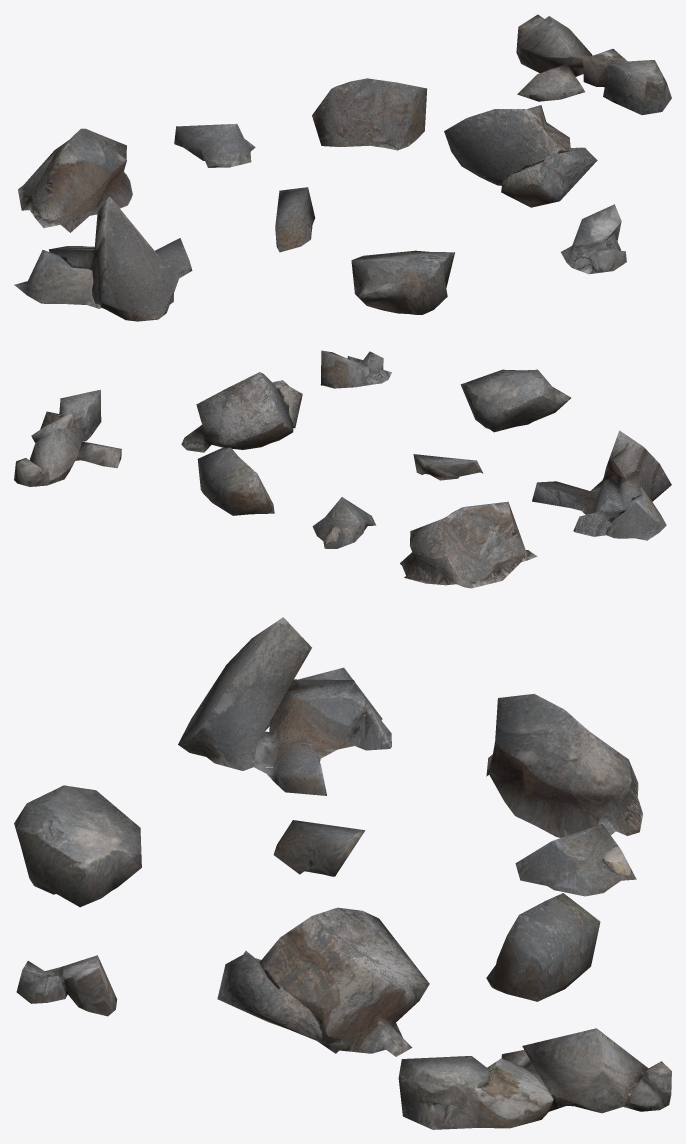
Rendered from rocks.glb.
3 renders of one model, top to bottom at view 1: azimuth 30°, elevation 25°; view 2: azimuth 150°, elevation 25°; view 3: azimuth 270°, elevation 25°, orthographic. The views are drawn at different scales.
Parts seen in each view (by area): view 1: Rocks.001_Rocks_0, Rocks.006_Rocks_0, Rocks.005_Rocks_0, Rocks.002_Rocks_0, Rocks.004_Rocks_0, Rocks.007_Rocks_0, Rocks.008_Rocks_0, Rocks.003_Rocks_0, Rocks_Rocks_0; view 2: Rocks.002_Rocks_0, Rocks.001_Rocks_0, Rocks.006_Rocks_0, Rocks.005_Rocks_0, Rocks.007_Rocks_0, Rocks.004_Rocks_0, Rocks.008_Rocks_0, Rocks.003_Rocks_0, Rocks_Rocks_0; view 3: Rocks.001_Rocks_0, Rocks.006_Rocks_0, Rocks.005_Rocks_0, Rocks.002_Rocks_0, Rocks.007_Rocks_0, Rocks.004_Rocks_0, Rocks.003_Rocks_0, Rocks.008_Rocks_0, Rocks_Rocks_0.
Boxes of the visible parts, x1,y1,x2,y2 form: Rocks.001_Rocks_0: [14, 196, 192, 321]; Rocks.006_Rocks_0: [444, 105, 597, 207]; Rocks.005_Rocks_0: [516, 14, 671, 114]; Rocks.002_Rocks_0: [18, 128, 132, 232]; Rocks.004_Rocks_0: [312, 78, 427, 150]; Rocks.007_Rocks_0: [351, 250, 454, 314]; Rocks.008_Rocks_0: [561, 204, 626, 274]; Rocks.003_Rocks_0: [174, 123, 255, 167]; Rocks_Rocks_0: [275, 187, 315, 252]; Rocks.002_Rocks_0: [400, 501, 537, 588]; Rocks.001_Rocks_0: [532, 430, 671, 540]; Rocks.006_Rocks_0: [181, 372, 302, 452]; Rocks.005_Rocks_0: [14, 389, 121, 486]; Rocks.007_Rocks_0: [460, 369, 570, 432]; Rocks.004_Rocks_0: [197, 447, 274, 515]; Rocks.008_Rocks_0: [320, 350, 391, 388]; Rocks.003_Rocks_0: [312, 497, 376, 548]; Rocks_Rocks_0: [413, 454, 483, 480]; Rocks.001_Rocks_0: [178, 617, 391, 795]; Rocks.006_Rocks_0: [217, 907, 429, 1056]; Rocks.005_Rocks_0: [398, 1028, 671, 1129]; Rocks.002_Rocks_0: [486, 694, 642, 837]; Rocks.007_Rocks_0: [14, 785, 141, 907]; Rocks.004_Rocks_0: [486, 893, 600, 1001]; Rocks.003_Rocks_0: [515, 824, 636, 896]; Rocks.008_Rocks_0: [16, 955, 117, 1016]; Rocks_Rocks_0: [273, 820, 365, 876].
Bounding box in the file's own units: 7.86 × 1.2 × 5.08.
1 material, 1 textured.
